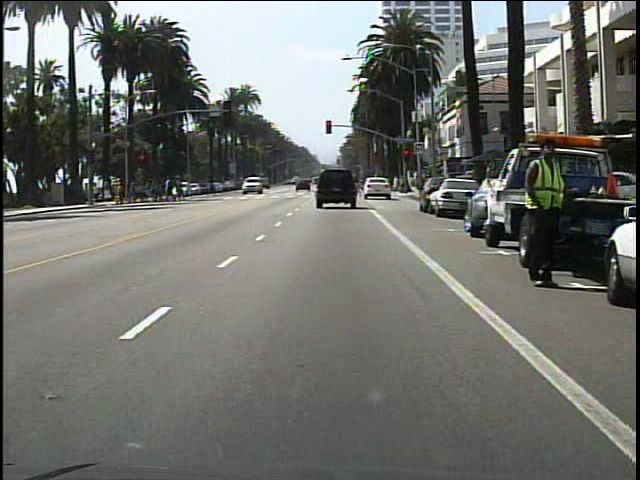person: (513, 131, 568, 289), (203, 172, 222, 201)
